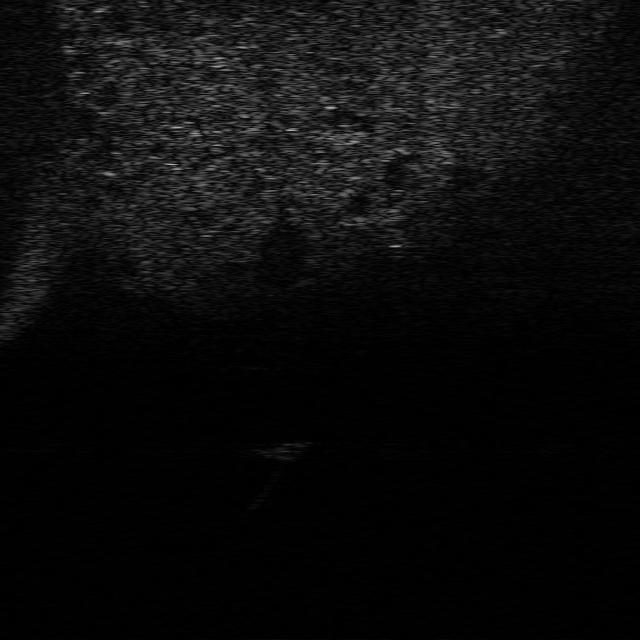cube: (259, 435, 309, 462)
